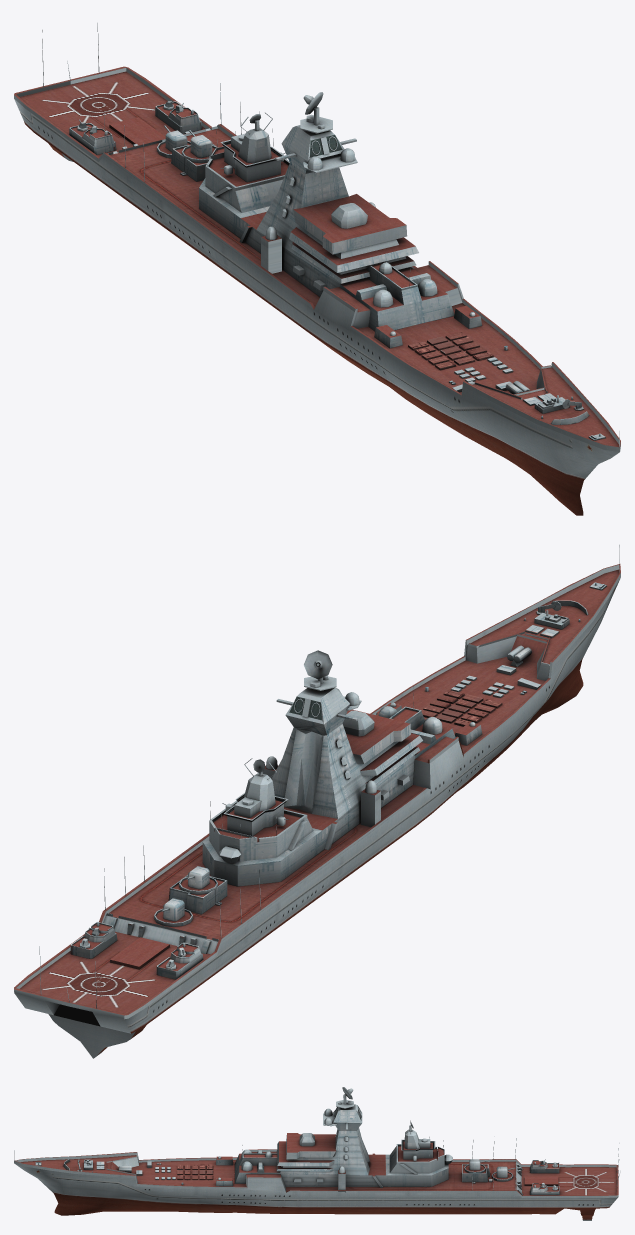
File: kirov-class_cruiser.glb
The picture shows the model from 3 angles, top to bottom: view 1: azimuth 30°, elevation 25°; view 2: azimuth 150°, elevation 25°; view 3: azimuth 270°, elevation 25°; orthographic projection. The views are drawn at different scales.
Parts seen in each view (by area): view 1: Object_2; view 2: Object_2; view 3: Object_2.
Boxes of the visible parts, <box> form: Object_2: <box>14,23,620,515</box>; Object_2: <box>14,545,620,1058</box>; Object_2: <box>14,1087,620,1220</box>.
Size of the model in its own units: 0.7151 by 1.41 by 5.8.
1 material, 1 textured.
